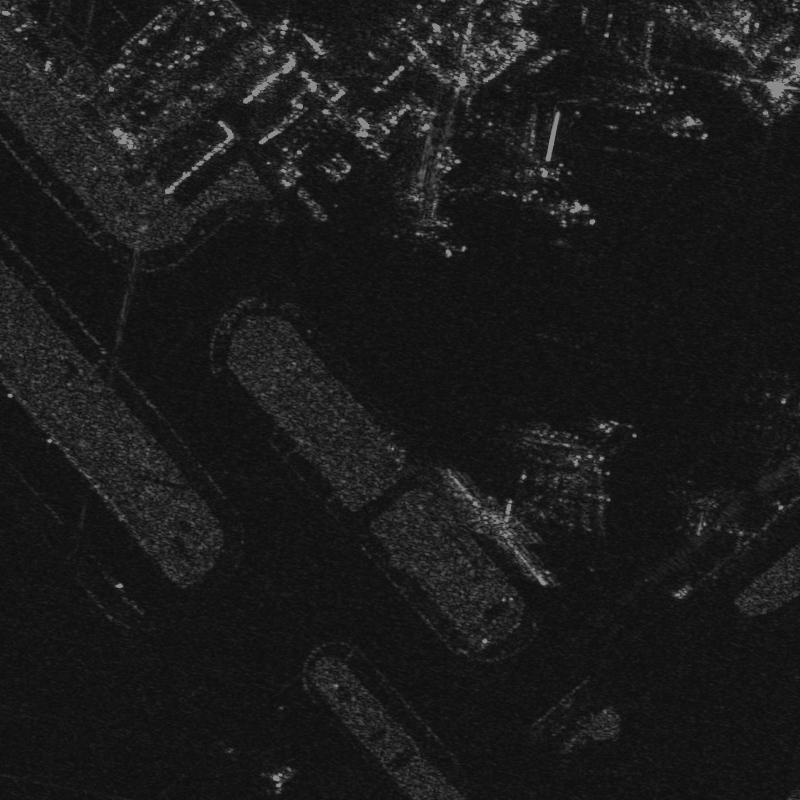Boeing737: (376, 170, 447, 239)
Boeing787: (478, 101, 570, 197), (592, 15, 686, 95)
other: (513, 414, 639, 536), (739, 357, 799, 470)
